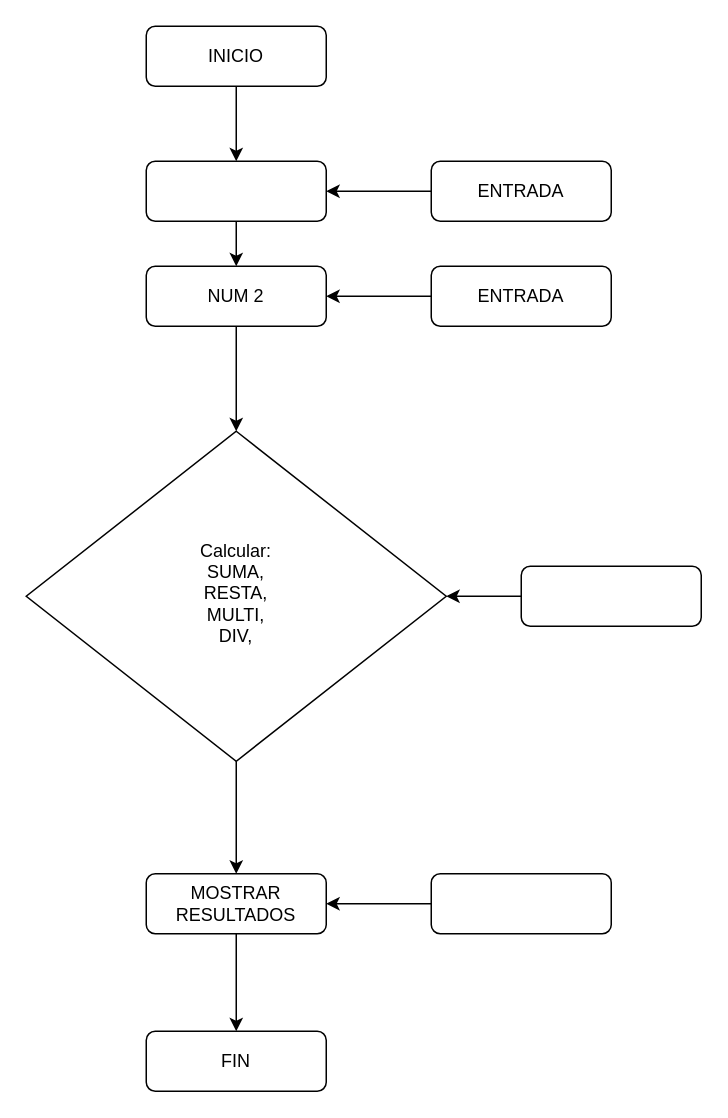
Some shapes in this 728 by 1118 pixel diagram are drawn without their labels. The centre of each missing label's shape, as x and y in pixels:
"NUM 1" goes at [235,190].
"Proceso" goes at [610,595].
"SALIDA" goes at [520,903].
